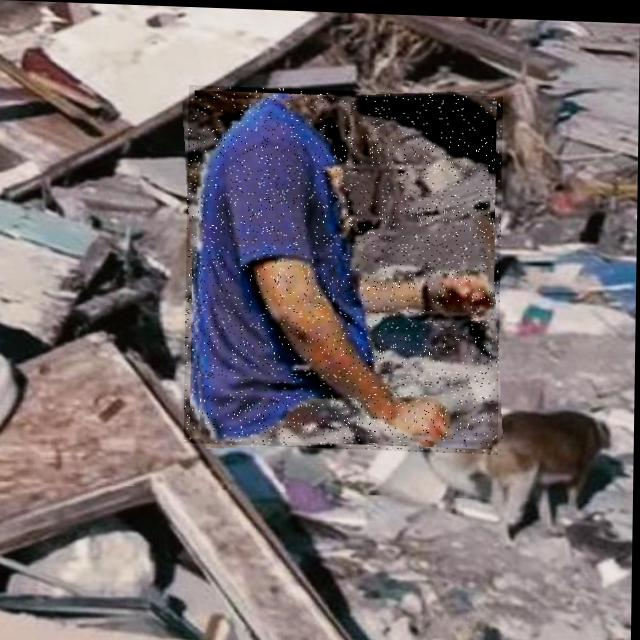Person in Rubble: (185, 84, 503, 451)
